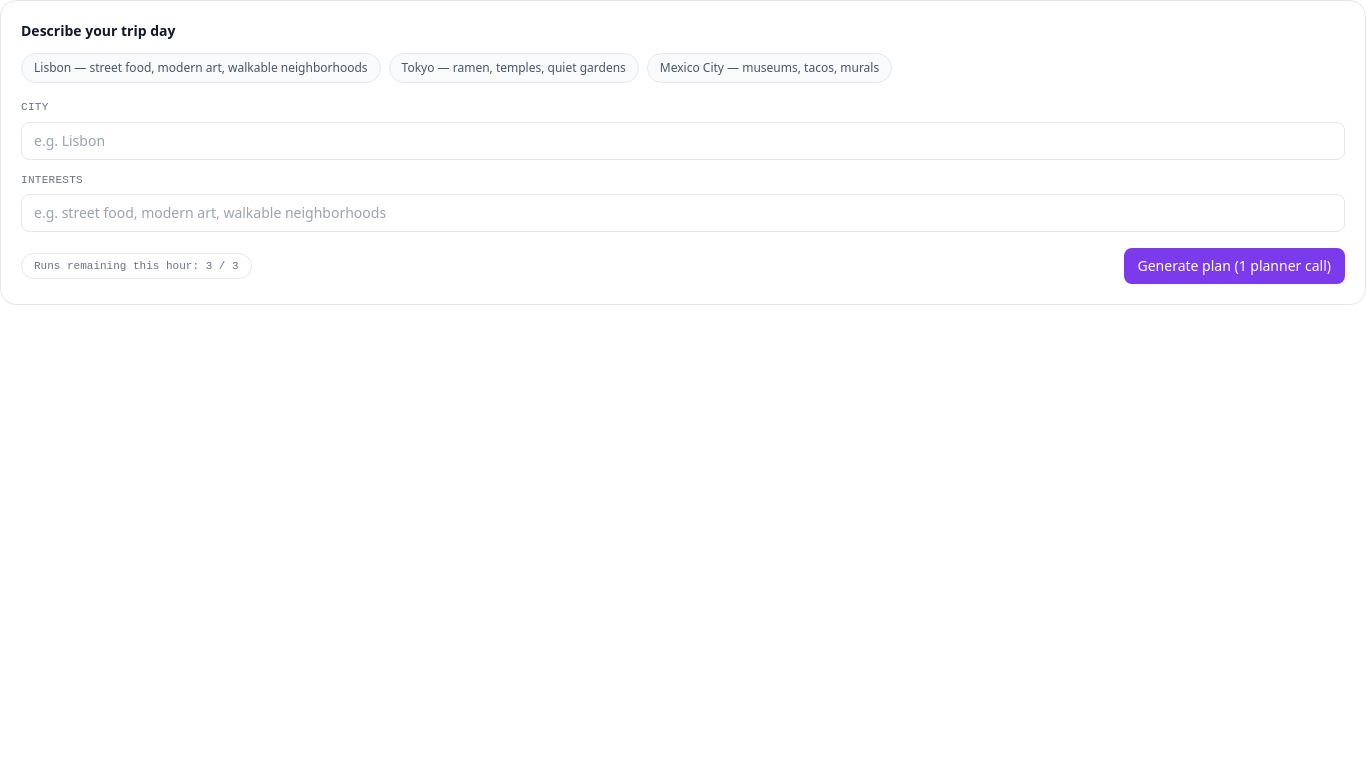
Scenario: the plan review gate › shows the trim warning when the planner over-planned
Type "Lisbon" into the field labelled "City" at [683, 140], box [21,122,1345,160]
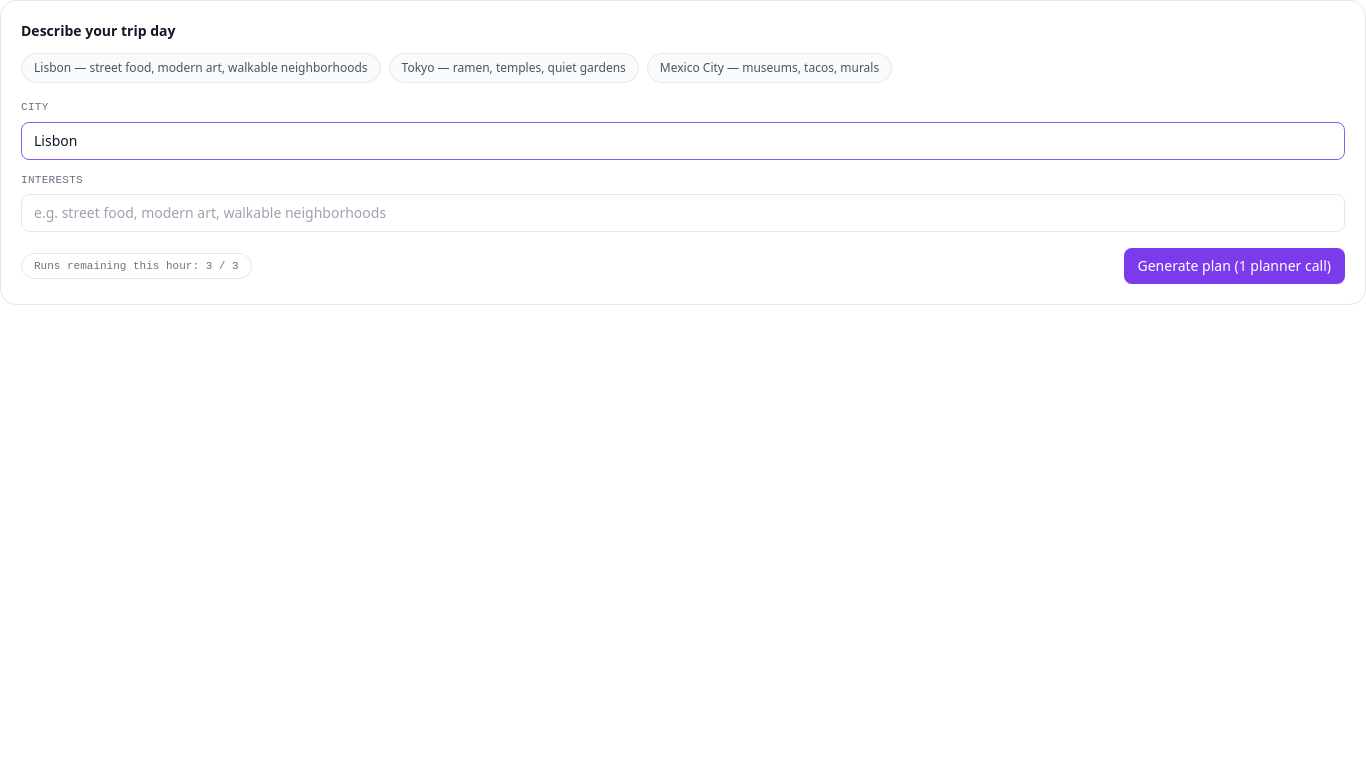
Type "street food, modern art" into the field labelled "Interests" at [683, 213], box [21,194,1345,232]
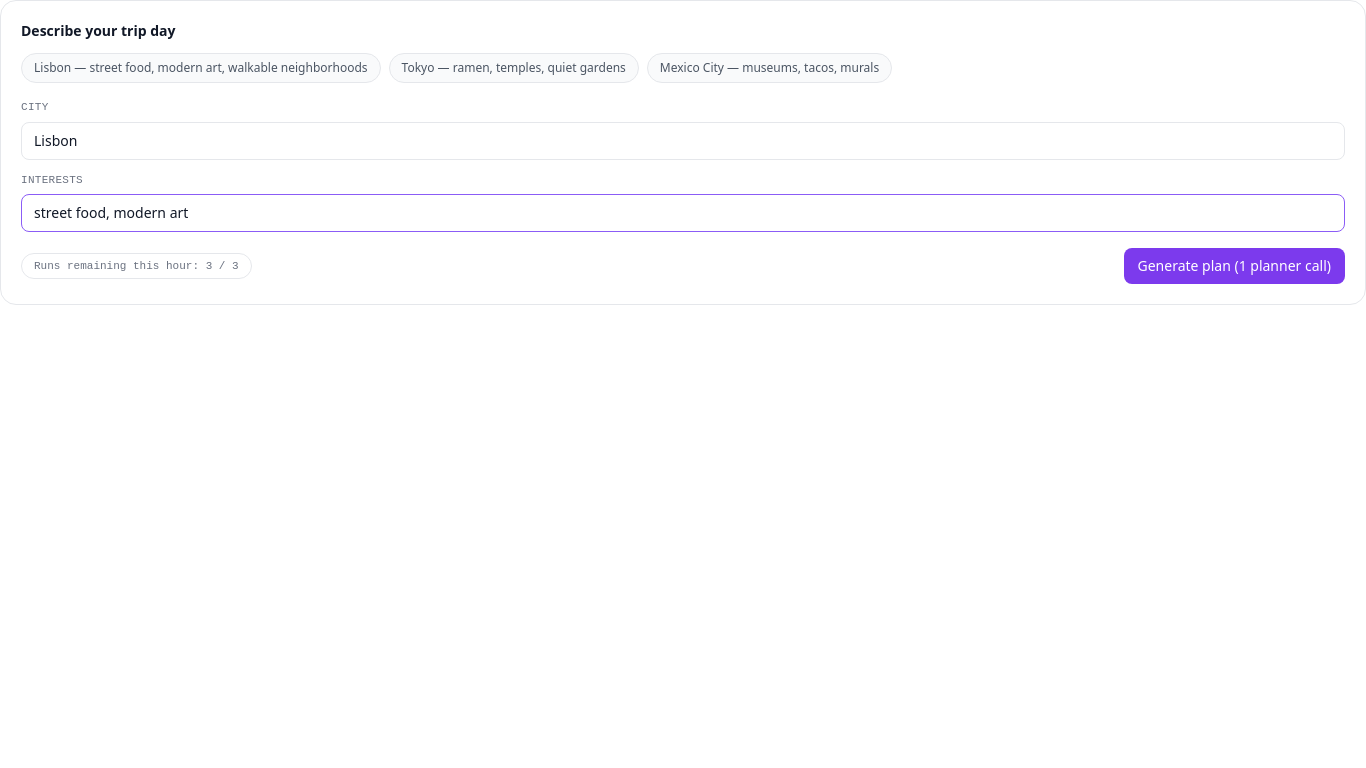
Click the button "Generate plan (1 planner call)" at [1234, 266], box [1124,248,1345,284]
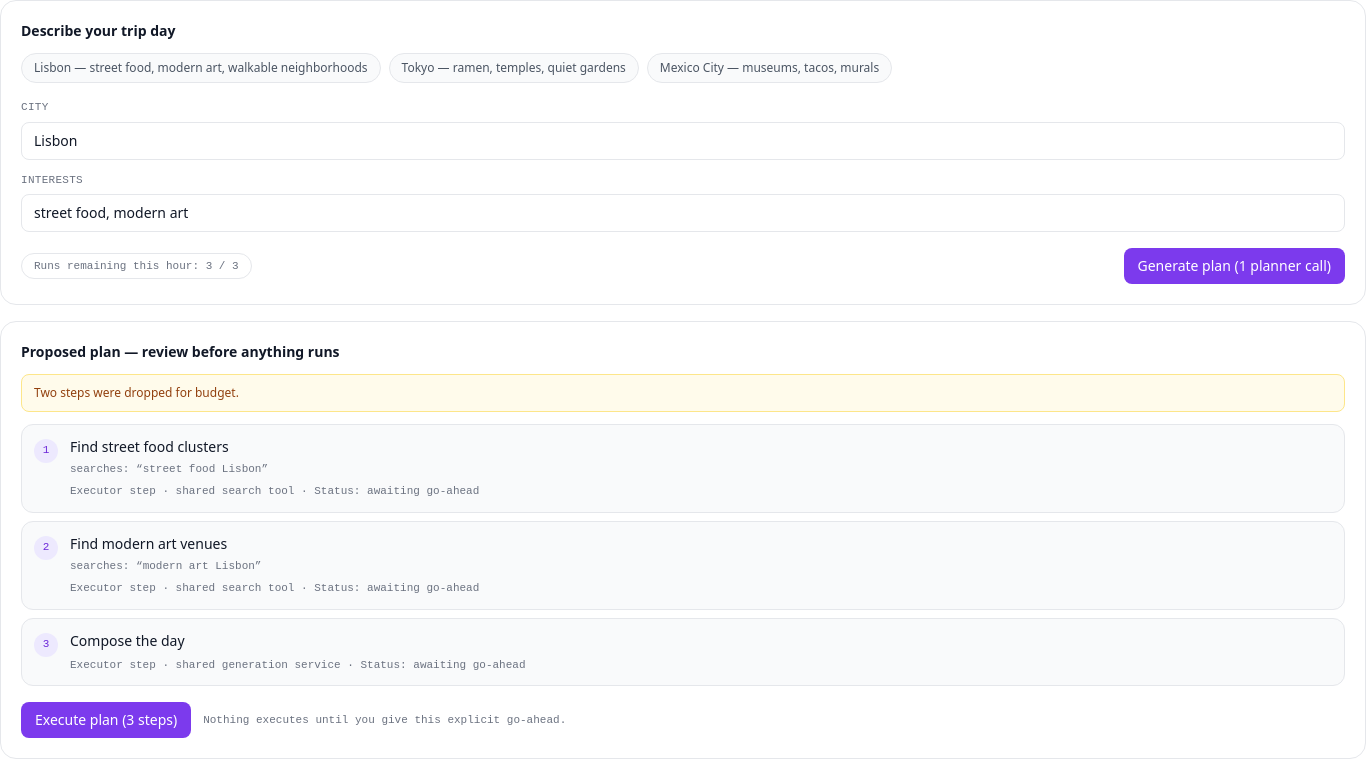
Now the text "Two steps were dropped for budget." is shown, box [21,374,1345,412]
